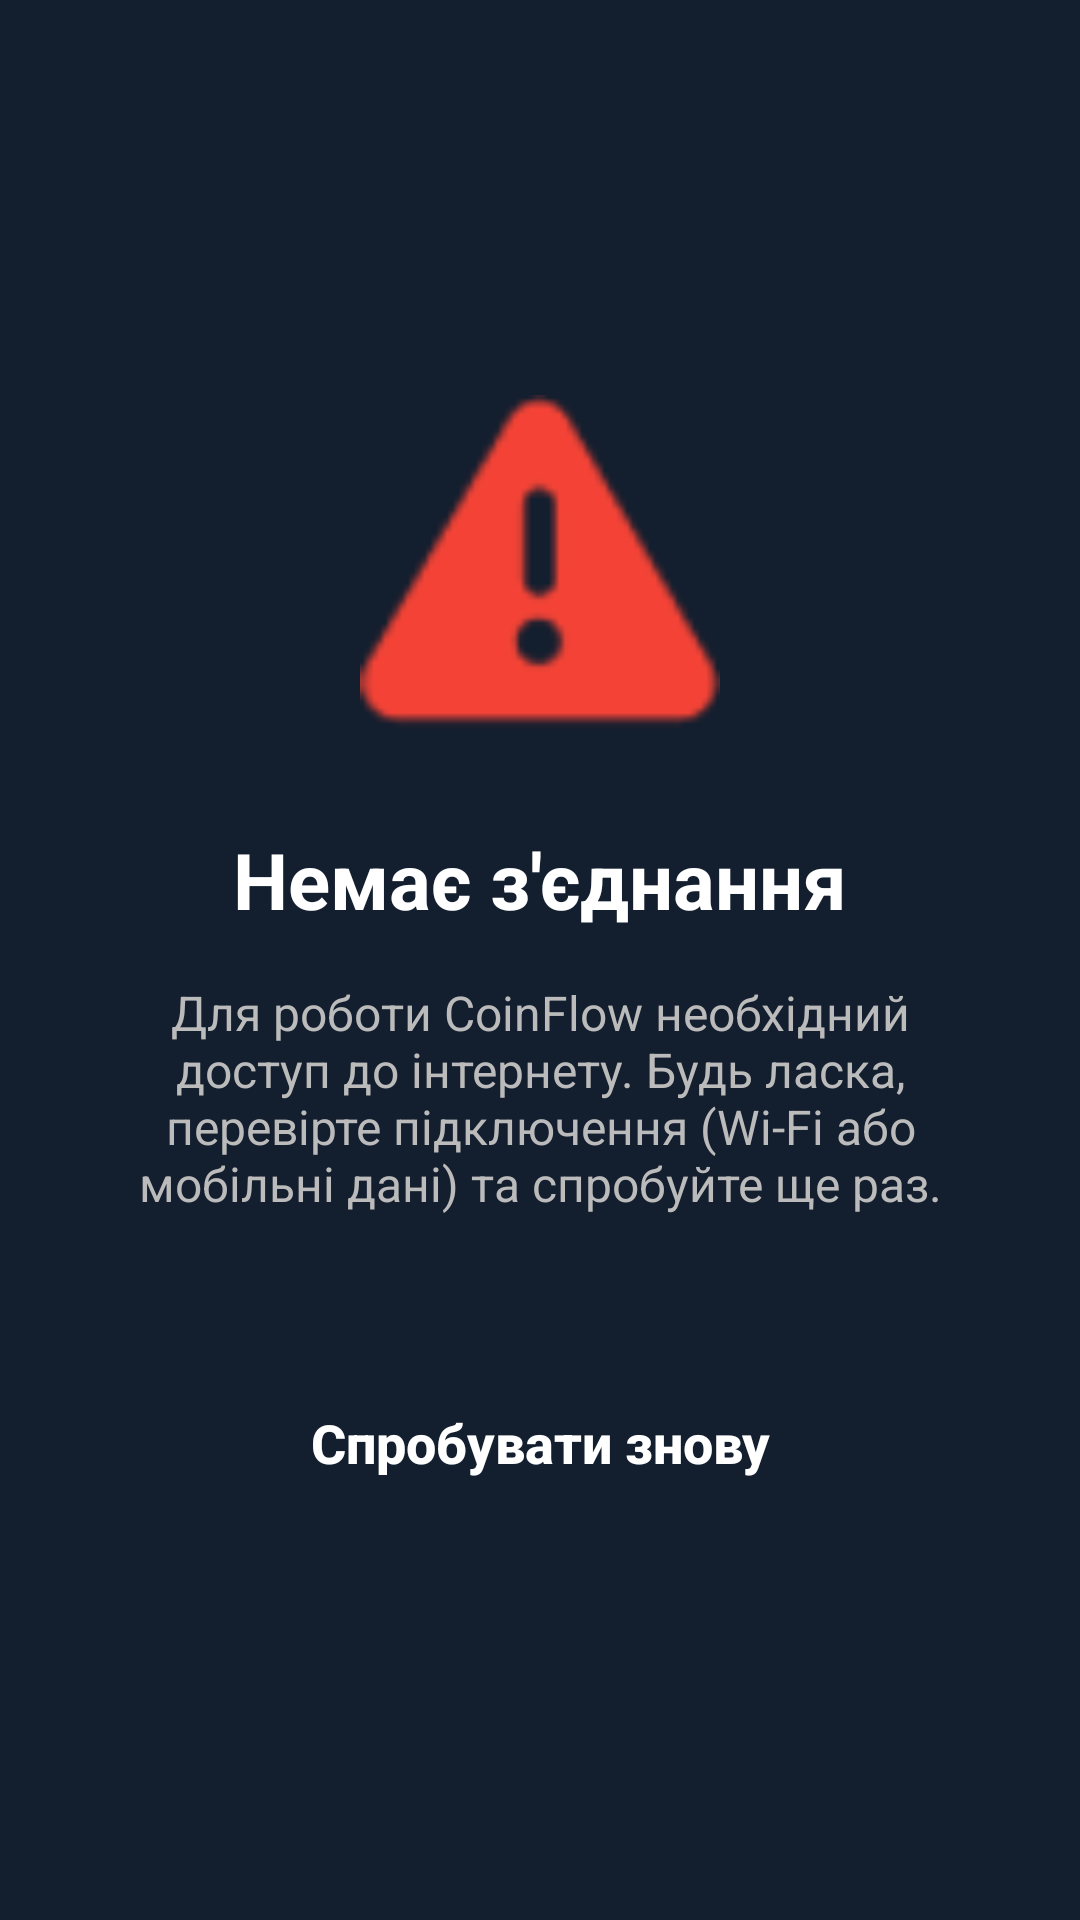

Icons on this 1080×1920 Android screen, each with its box as [x1,y1,x2,y2]:
alert: [360,395,720,724]
